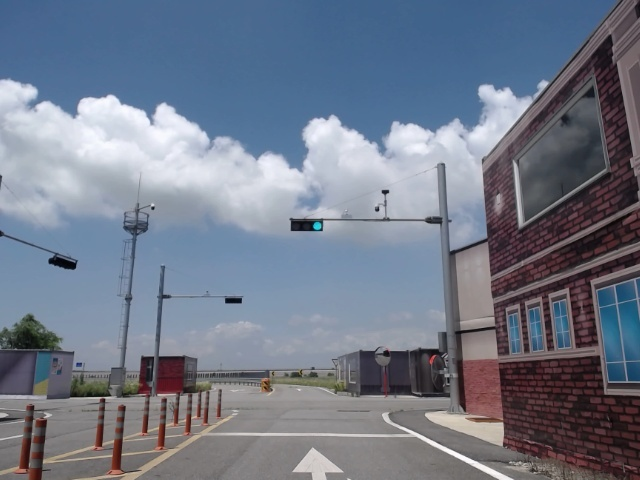green_3: (292, 219, 322, 232)
